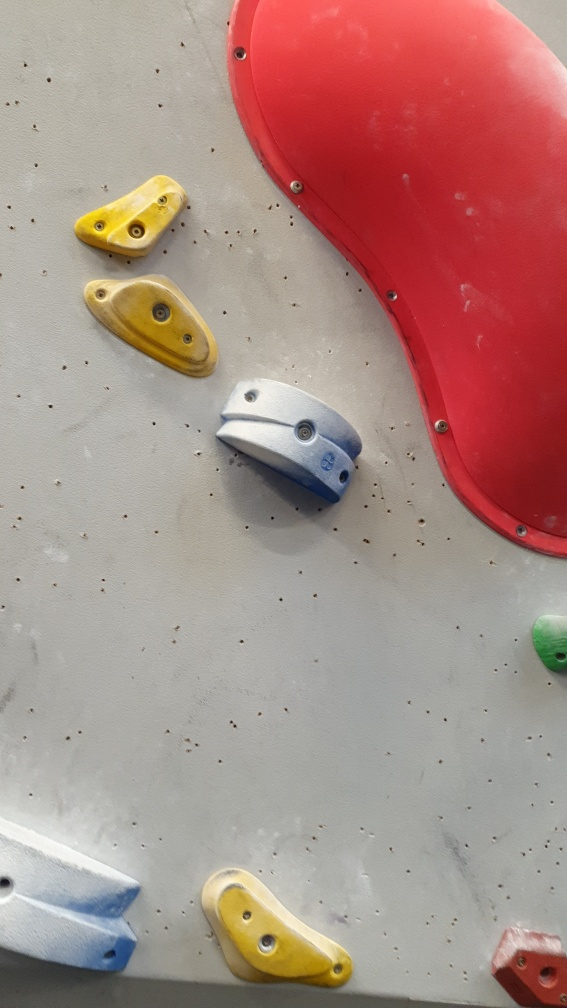Crimp: (212, 872, 339, 984), (99, 181, 193, 262)
Pinch: (1, 811, 146, 976), (211, 371, 370, 509)
